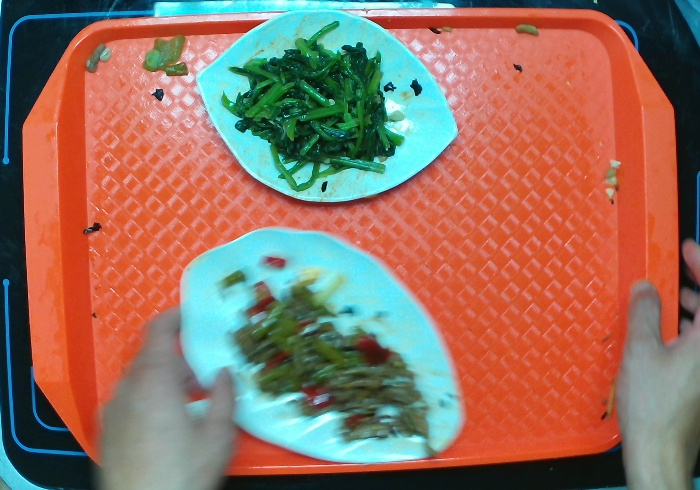RJxy-Da_Du_Pan: (194, 7, 460, 204)
